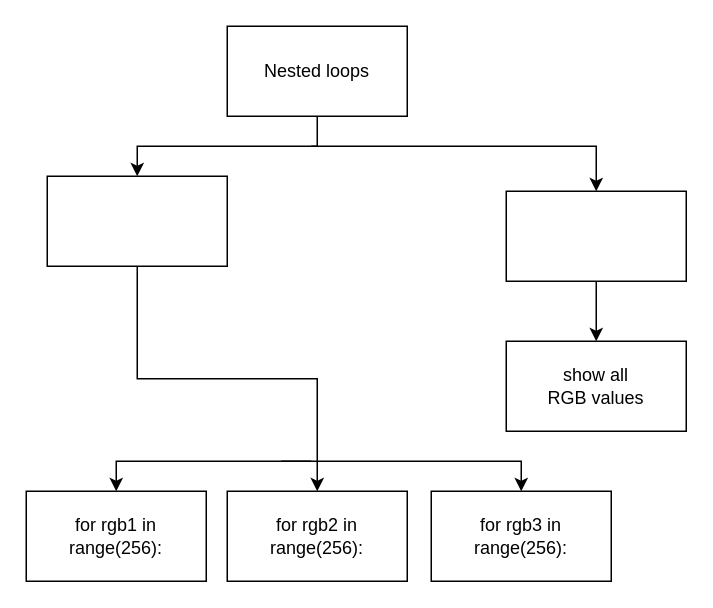
Some shapes in this 713 by 608 pixel diagram are drawn without their labels. The centre of each missing label's shape, as x and y in pixels:
"Output" goes at (595,235).
"Process" goes at (136,220).
